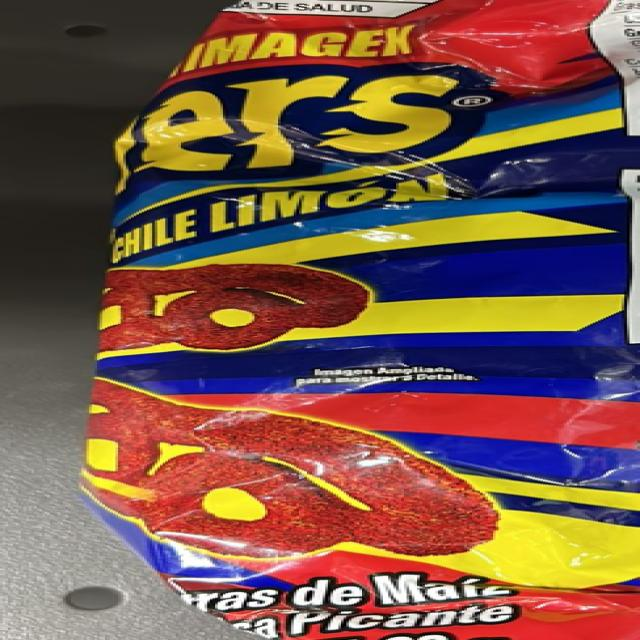runners: (110, 12, 640, 614)
